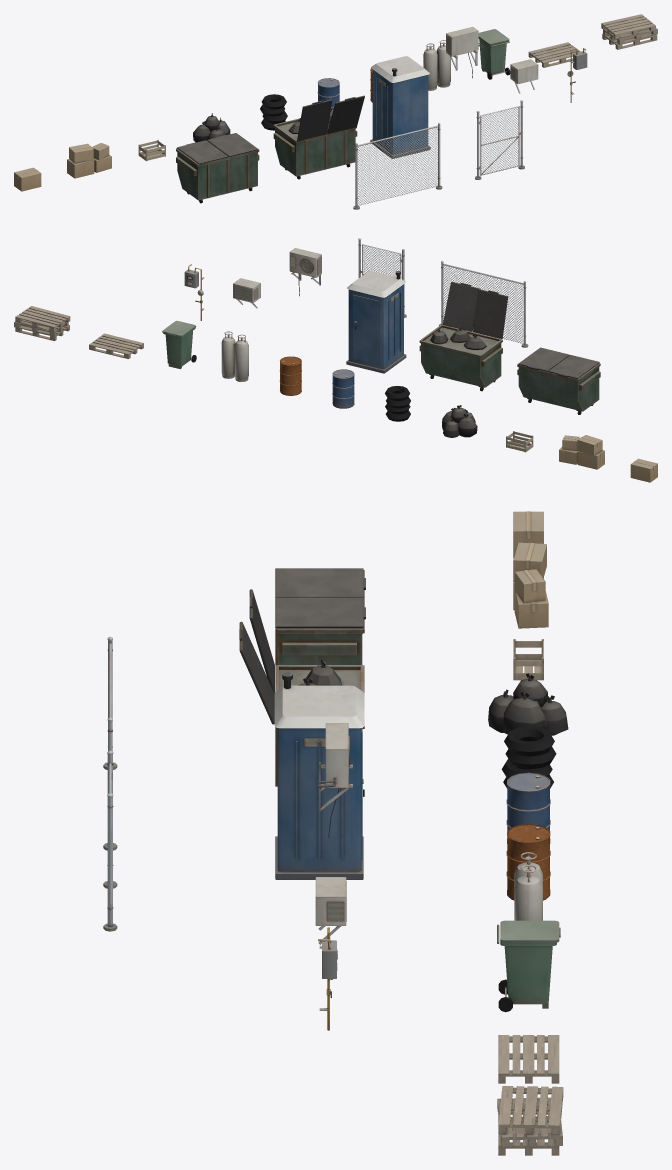
Rendered from set_alley_and_yard.glb.
3 views of the same model, one above another, from view 1: azimuth 30°, elevation 25°; view 2: azimuth 150°, elevation 25°; view 3: azimuth 270°, elevation 25° (orthographic). The views are drawn at different scales.
Visible parts, largest first — view 1: portable_toilet_lod0, dumpster_open_lod0, dumpster_closed_lod0, fence_panel_lod0, leaf__fence_gate, pallet_stack_lod0, cardboard_stack_lod0, wheelie_bin_lod0, gas_cylinders_lod0, ac_condenser_lod0, pallet_lod0, tyre_stack_lod0 (+7 smaller); view 2: dumpster_open_lod0, portable_toilet_lod0, dumpster_closed_lod0, fence_panel_lod0, pallet_stack_lod0, cardboard_stack_lod0, gas_cylinders_lod0, wheelie_bin_lod0, ac_condenser_lod0, bin_bags_lod0, drum_oil_lod0, pallet_lod0 (+7 smaller); view 3: portable_toilet_lod0, dumpster_closed_lod0, wheelie_bin_lod0, dumpster_open_lod0, pallet_stack_lod0, bin_bags_lod0, cardboard_stack_lod0, pallet_lod0, tyre_stack_lod0, drum_oil_lod0, drum_rusty_lod0, ac_condenser_lod0 (+5 smaller).
Part boxes in pixels (x1=…): portable_toilet_lod0: x1=370, y1=56, x2=430, y2=158; dumpster_open_lod0: x1=273, y1=95, x2=364, y2=179; dumpster_closed_lod0: x1=176, y1=133, x2=259, y2=203; fence_panel_lod0: x1=353, y1=122, x2=442, y2=209; leaf__fence_gate: x1=480, y1=106, x2=519, y2=175; pallet_stack_lod0: x1=601, y1=14, x2=657, y2=49; cardboard_stack_lod0: x1=67, y1=143, x2=111, y2=178; wheelie_bin_lod0: x1=478, y1=29, x2=510, y2=79; gas_cylinders_lod0: x1=423, y1=40, x2=450, y2=90; ac_condenser_lod0: x1=446, y1=27, x2=483, y2=78; pallet_lod0: x1=528, y1=42, x2=580, y2=67; tyre_stack_lod0: x1=260, y1=94, x2=287, y2=130; dumpster_open_lod0: x1=419, y1=281, x2=508, y2=391; portable_toilet_lod0: x1=346, y1=271, x2=406, y2=373; dumpster_closed_lod0: x1=517, y1=347, x2=600, y2=414; fence_panel_lod0: x1=439, y1=260, x2=528, y2=347; pallet_stack_lod0: x1=14, y1=306, x2=70, y2=340; cardboard_stack_lod0: x1=559, y1=435, x2=604, y2=469; gas_cylinders_lod0: x1=221, y1=331, x2=248, y2=381; wheelie_bin_lod0: x1=162, y1=320, x2=196, y2=369; ac_condenser_lod0: x1=289, y1=248, x2=321, y2=296; bin_bags_lod0: x1=442, y1=405, x2=477, y2=437; drum_oil_lod0: x1=332, y1=369, x2=354, y2=408; pallet_lod0: x1=89, y1=333, x2=143, y2=358; portable_toilet_lod0: x1=274, y1=672, x2=364, y2=879; dumpster_closed_lod0: x1=275, y1=568, x2=365, y2=665; wheelie_bin_lod0: x1=497, y1=920, x2=560, y2=1012; dumpster_open_lod0: x1=239, y1=589, x2=364, y2=786; pallet_stack_lod0: x1=497, y1=1086, x2=563, y2=1155; bin_bags_lod0: x1=488, y1=673, x2=568, y2=735; cardboard_stack_lod0: x1=513, y1=542, x2=548, y2=628; pallet_lod0: x1=498, y1=1035, x2=559, y2=1083; tyre_stack_lod0: x1=501, y1=726, x2=556, y2=788; drum_oil_lod0: x1=506, y1=772, x2=550, y2=843; drum_rusty_lod0: x1=506, y1=824, x2=550, y2=900; ac_condenser_lod0: x1=318, y1=723, x2=352, y2=837.
Size of what is drawn, in the model's own units: 19.17 by 2.75 by 6.1.
2 materials, 2 textured.
